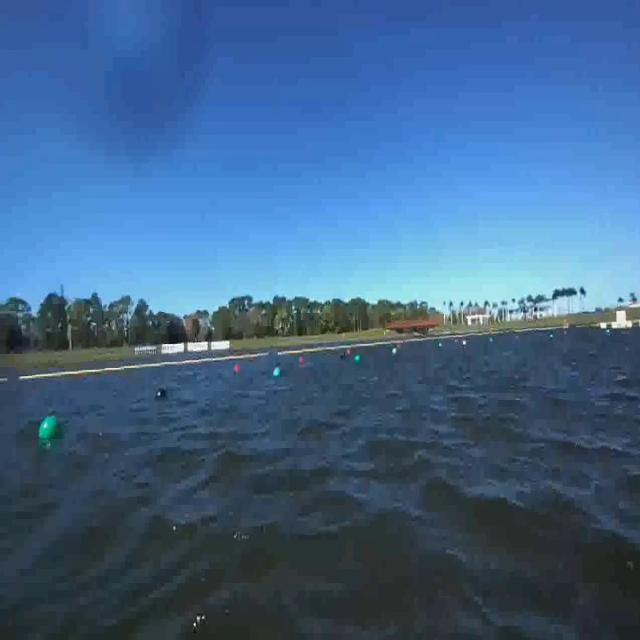black-buoy: (153, 387, 170, 404)
green-buoy: (42, 416, 64, 443), (274, 366, 282, 378), (354, 354, 362, 364)
red-buoy: (235, 362, 242, 373)
